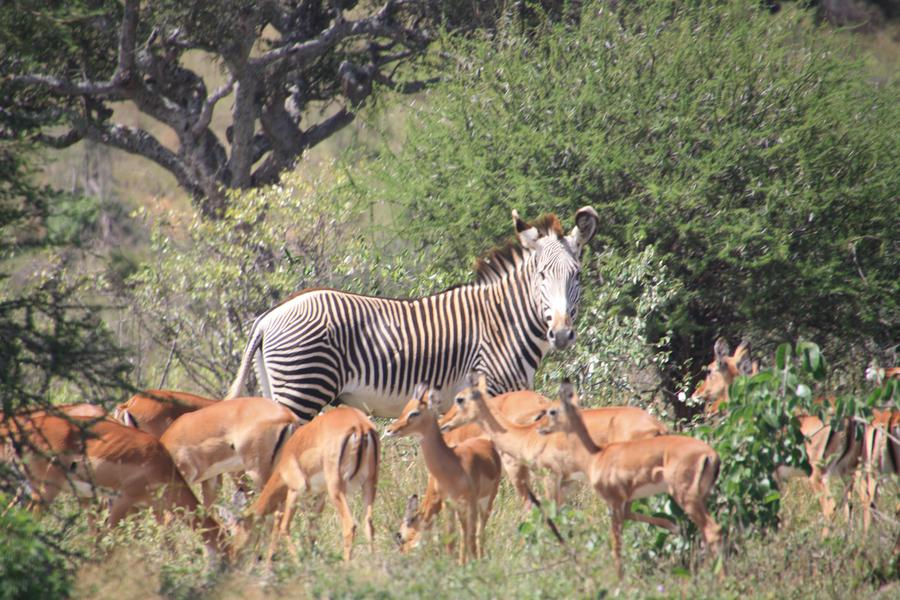zebra_grevys: (235, 274, 538, 385)
